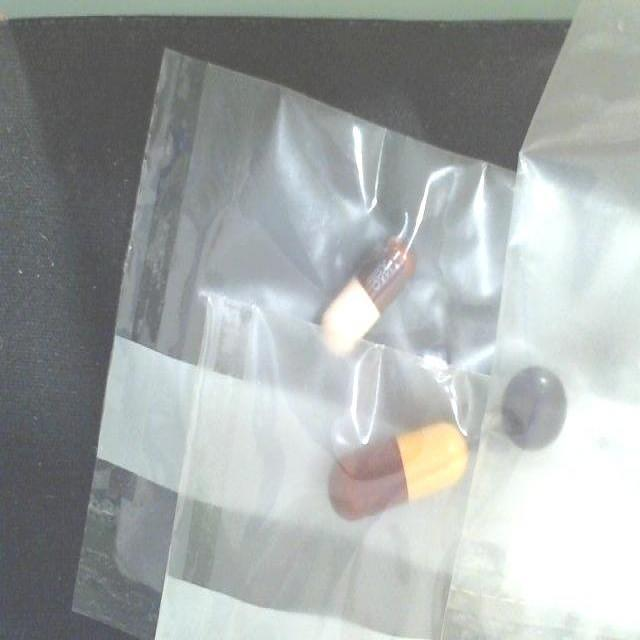pill: (324, 422, 466, 518), (322, 240, 412, 356)
